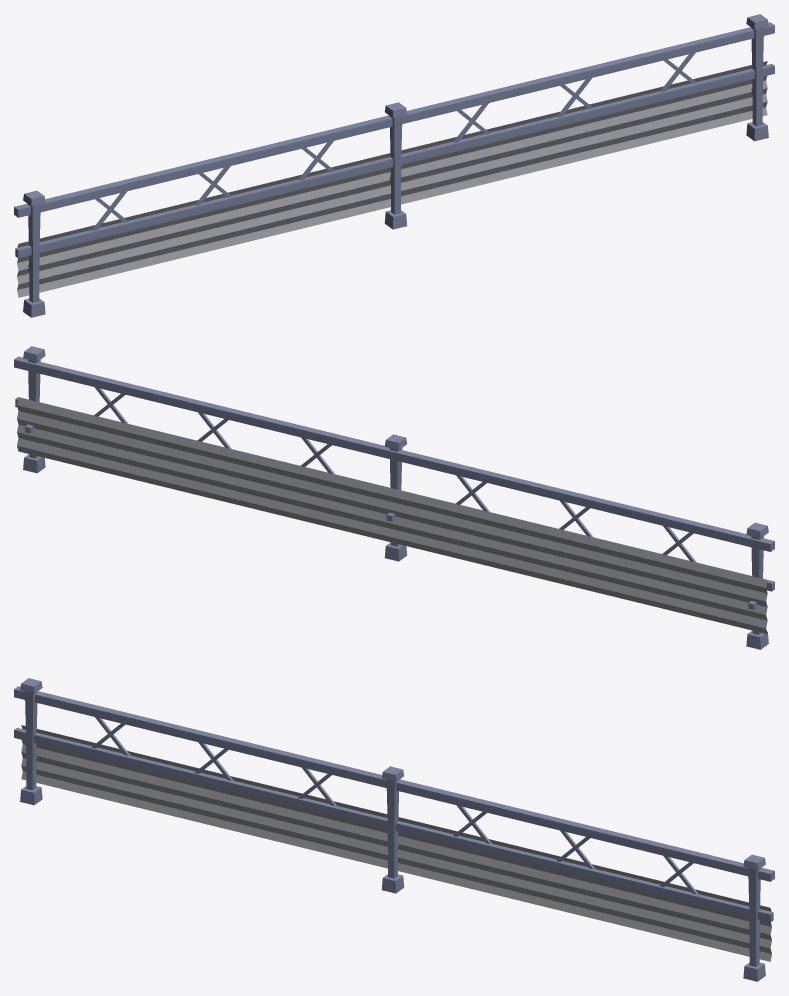
Rendered from Fence_2A.fbx.
The picture shows the model from 3 angles, top to bottom: view 1: azimuth 30°, elevation 25°; view 2: azimuth 150°, elevation 25°; view 3: azimuth 330°, elevation 25°; orthographic projection.
Visible parts, largest first — view 1: Fence_2A; view 2: Fence_2A; view 3: Fence_2A.
Boxes of the visible parts, x1,y1,x2,y2 form: Fence_2A: (14, 14, 774, 317); Fence_2A: (14, 346, 774, 649); Fence_2A: (14, 678, 774, 981).
Bounding box in the file's own units: 2929 × 437 × 72.48.
